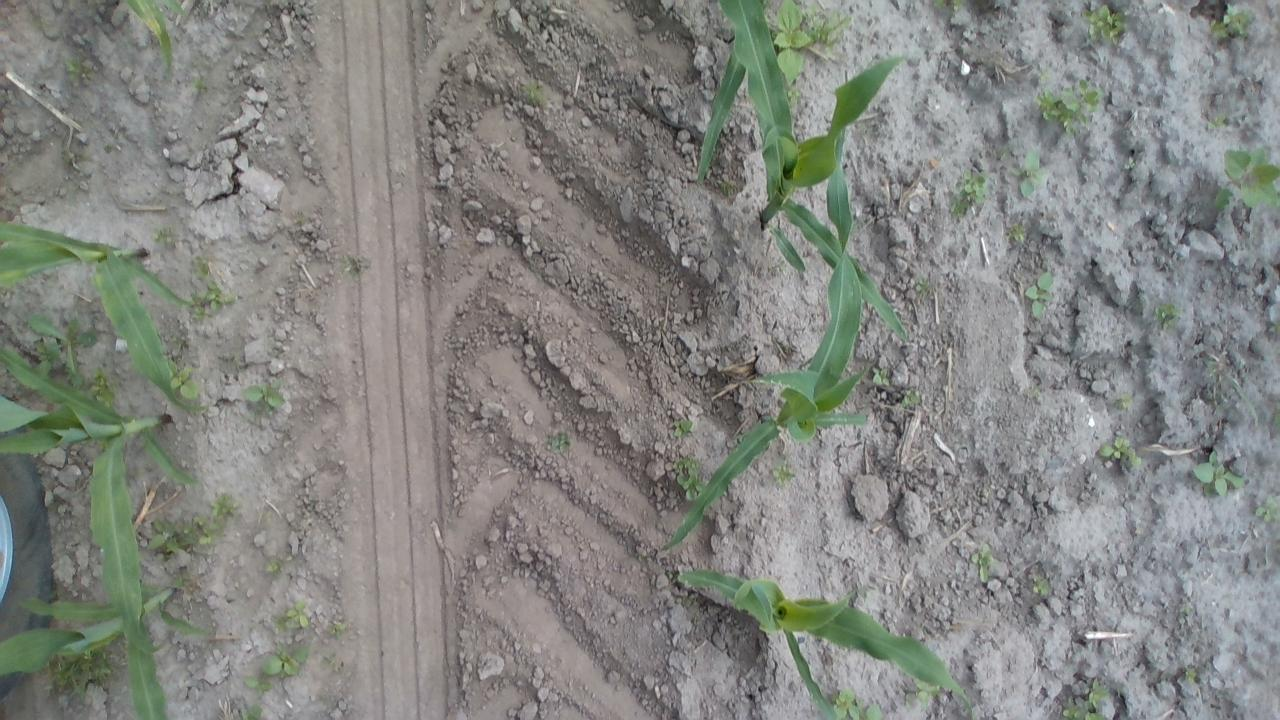Maize: (660, 132, 876, 556), (0, 349, 197, 720), (720, 0, 906, 337), (679, 566, 972, 719), (0, 221, 197, 413), (0, 583, 211, 703), (130, 0, 186, 80)
Weeds: (22, 310, 98, 384), (1210, 144, 1280, 212), (1036, 78, 1104, 132), (768, 0, 810, 80), (152, 515, 223, 558), (45, 654, 109, 694), (1198, 449, 1248, 493), (1082, 4, 1130, 44), (1020, 146, 1050, 201), (948, 172, 984, 216), (810, 8, 850, 46), (267, 642, 310, 676), (832, 690, 879, 720), (1210, 9, 1254, 41), (1026, 272, 1052, 320), (189, 285, 222, 321), (674, 456, 702, 498), (246, 380, 286, 408), (209, 491, 241, 526), (1096, 435, 1136, 461), (1150, 301, 1180, 333), (516, 75, 546, 106), (1058, 701, 1104, 720), (172, 365, 198, 398), (64, 57, 92, 84), (88, 376, 115, 404), (972, 548, 994, 582), (287, 598, 309, 626), (1256, 495, 1276, 522), (870, 365, 890, 389), (243, 676, 277, 690), (1088, 678, 1106, 703), (916, 682, 942, 699), (1011, 224, 1029, 248), (321, 654, 346, 671), (670, 415, 694, 432), (544, 433, 568, 450), (1206, 115, 1227, 130), (778, 460, 795, 478), (901, 390, 920, 406), (195, 259, 210, 278), (1118, 389, 1132, 409), (931, 0, 964, 8), (266, 560, 286, 572), (1034, 578, 1049, 594), (272, 613, 286, 626), (244, 706, 262, 716), (330, 621, 346, 632), (1184, 665, 1196, 678), (197, 76, 206, 92), (788, 91, 798, 102), (152, 229, 163, 238)
